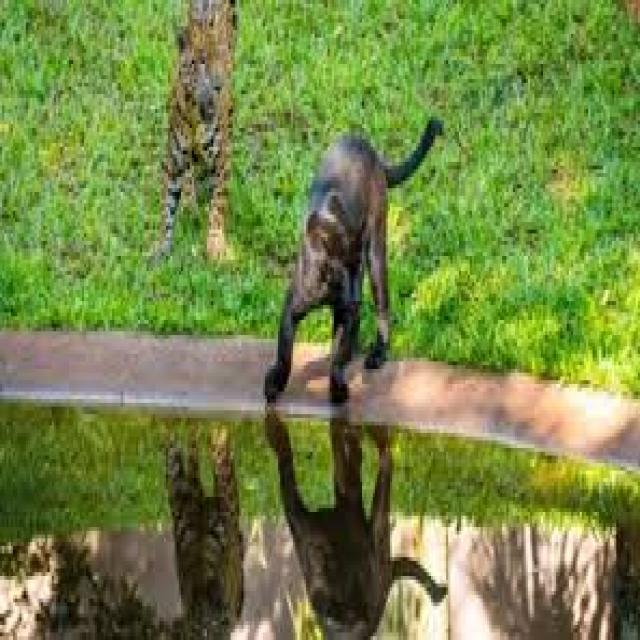Jaguar: (157, 4, 259, 282)
